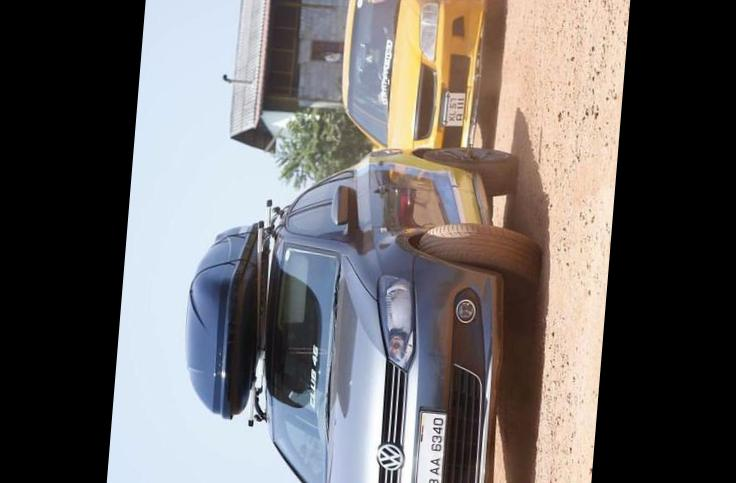plate: (400, 401, 458, 483)
